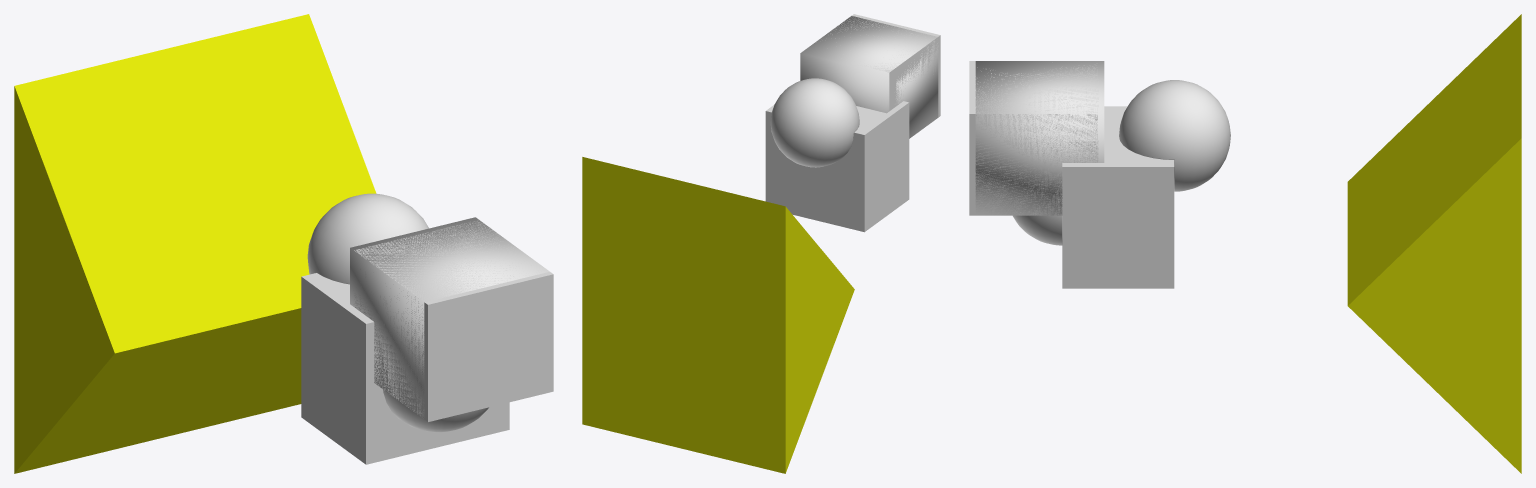
Rendered from pacman.fbx.
3 renders of one model, left to right at view 1: azimuth 30°, elevation 25°; view 2: azimuth 150°, elevation 25°; view 3: azimuth 270°, elevation 25°, orthographic. The views are drawn at different scales.
Parts seen in each view (by area): view 1: Cube, Cube.003, Cube.002, Cube.001, Sphere.001, Sphere; view 2: Cube, Cube.001, Cube.002, Sphere.001, Cube.003; view 3: Cube, Cube.002, Cube.001, Sphere.001, Cube.003, Sphere.
Boxes of the visible parts, <box> form: Cube: <box>14,14,376,473</box>; Cube.003: <box>354,221,553,421</box>; Cube.002: <box>350,217,549,418</box>; Cube.001: <box>301,273,509,464</box>; Sphere.001: <box>307,193,428,284</box>; Sphere: <box>383,389,488,432</box>; Cube: <box>582,157,854,473</box>; Cube.001: <box>765,101,909,232</box>; Cube.002: <box>800,16,938,138</box>; Sphere.001: <box>770,78,859,167</box>; Cube.003: <box>830,14,940,117</box>; Cube: <box>1347,14,1521,473</box>; Cube.002: <box>975,61,1104,215</box>; Cube.001: <box>1062,106,1174,288</box>; Sphere.001: <box>1119,80,1230,191</box>; Cube.003: <box>969,61,1098,215</box>; Sphere: <box>1013,215,1062,245</box>.
Bounding box in the file's own units: 525 × 661 × 986.
